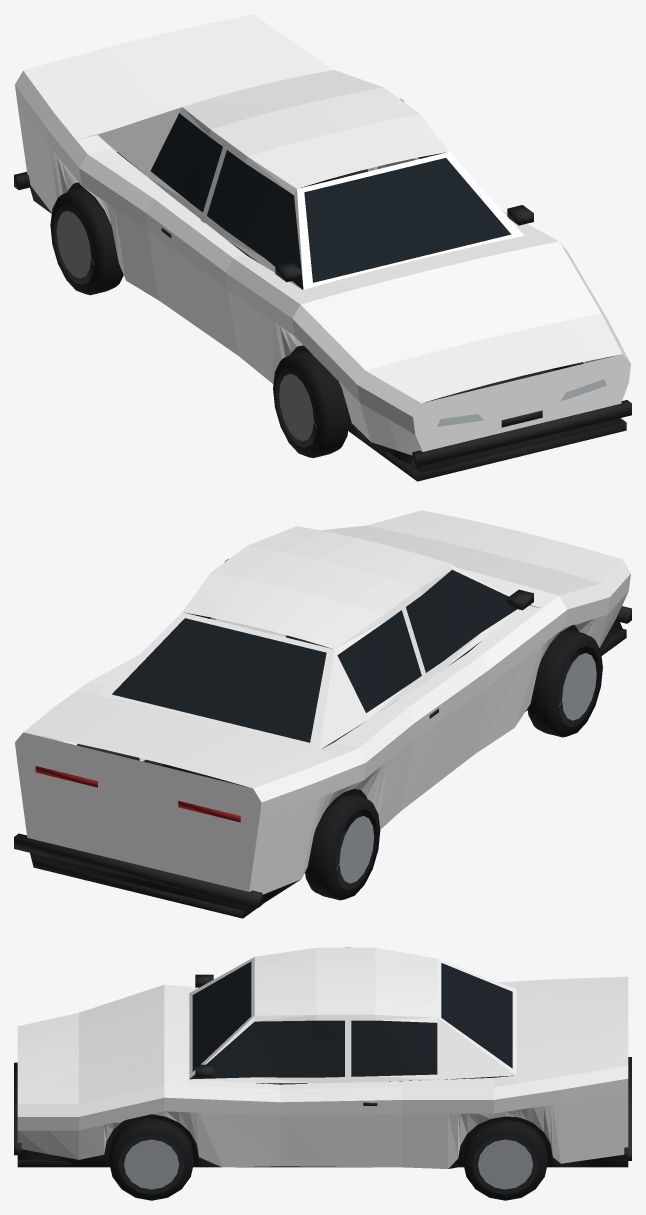
Rendered from mizuchi_avela.glb.
3 views of the same model, one above another, from view 1: azimuth 30°, elevation 25°; view 2: azimuth 150°, elevation 25°; view 3: azimuth 270°, elevation 25° (orthographic). The views are drawn at different scales.
Parts seen in each view (by area): view 1: Body_Paint, Body_Details, Mount_FrontLeft_Wheel_Details, Mount_RearLeft_Wheel_Details; view 2: Body_Paint, Body_Details, Mount_FrontLeft_Wheel_Details, Mount_RearLeft_Wheel_Details; view 3: Body_Paint, Body_Details, Mount_FrontRight_Wheel_Details, Mount_RearRight_Wheel_Details.
Boxes of the visible parts, x1,y1,x2,y2 form: Body_Paint: (15, 14, 630, 455); Body_Details: (14, 113, 631, 481); Mount_FrontLeft_Wheel_Details: (273, 350, 349, 457); Mount_RearLeft_Wheel_Details: (50, 188, 123, 295); Body_Paint: (15, 510, 630, 894); Body_Details: (14, 569, 631, 918); Mount_FrontLeft_Wheel_Details: (527, 629, 602, 737); Mount_RearLeft_Wheel_Details: (305, 794, 380, 900); Body_Paint: (17, 947, 628, 1168); Body_Details: (14, 961, 631, 1168); Mount_FrontRight_Wheel_Details: (109, 1118, 193, 1200); Mount_RearRight_Wheel_Details: (463, 1120, 547, 1200).
Bounding box in the file's own units: 1.89 × 1.34 × 4.43.
Materials: 2 (1 with a texture image).
